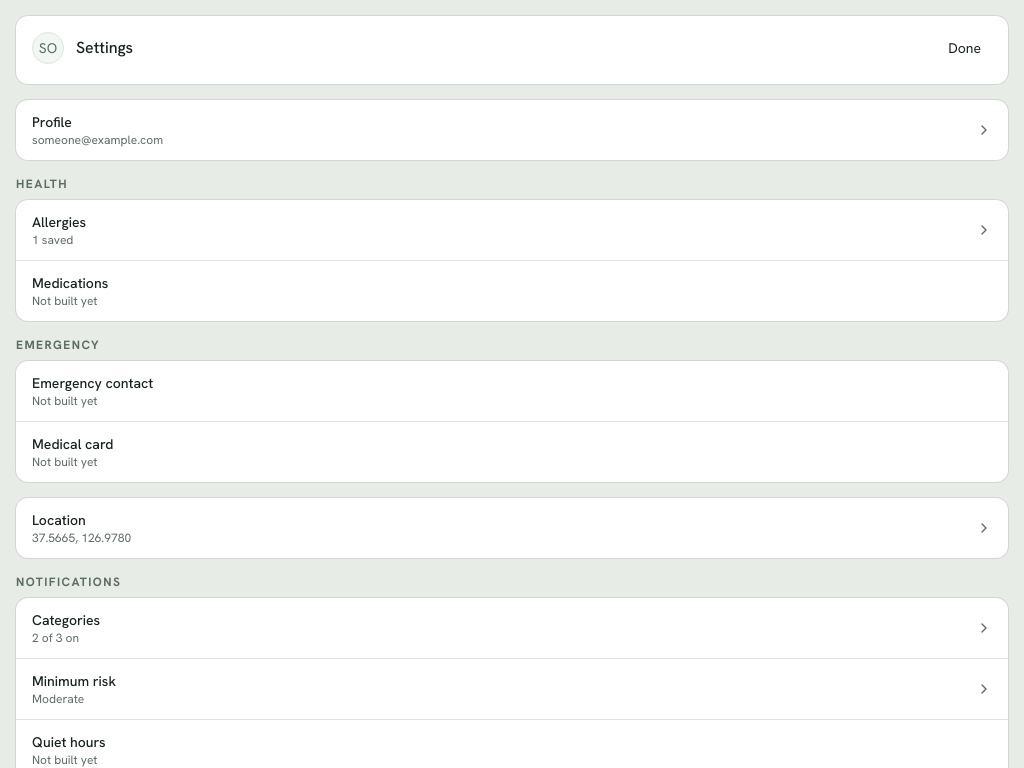
Test: SettingsPage profile and health screens › shows the account email and says name is not built yet
The image size is (1024, 768).
What coordinates should you click on to do the following:
click the button "Profile someone@example.com"
I would click on:
 (52, 122)
Its box is [16,100,1008,160].
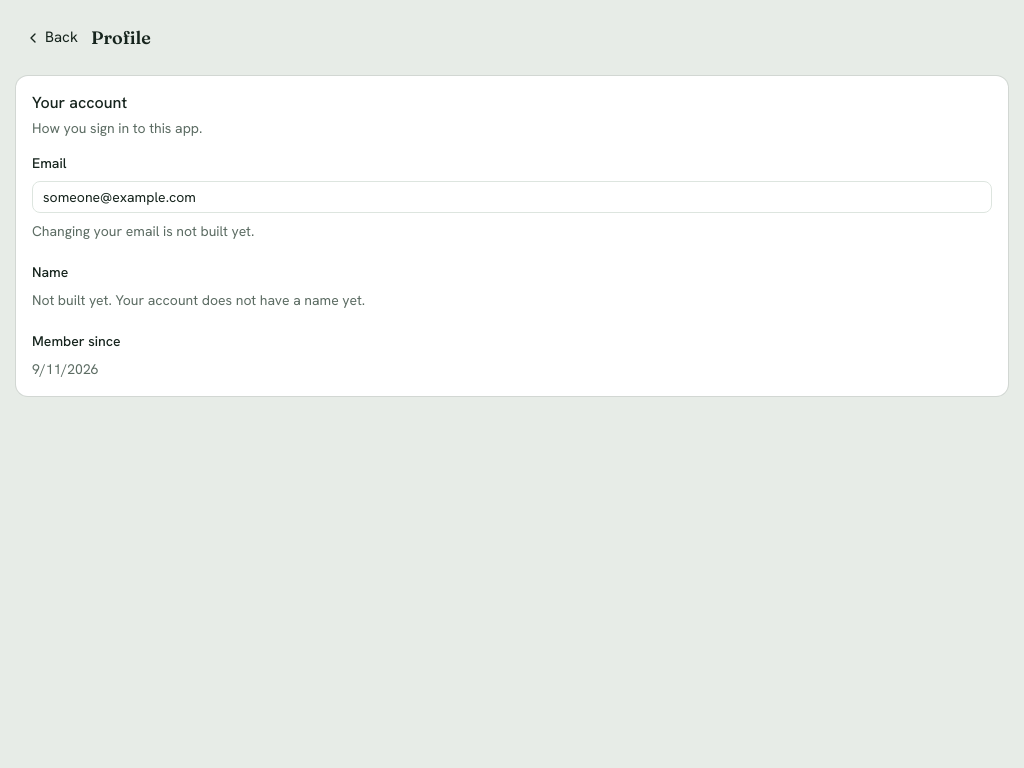
Expected: the field labelled "Email" holds "someone@example.com", [32,181,992,213]
